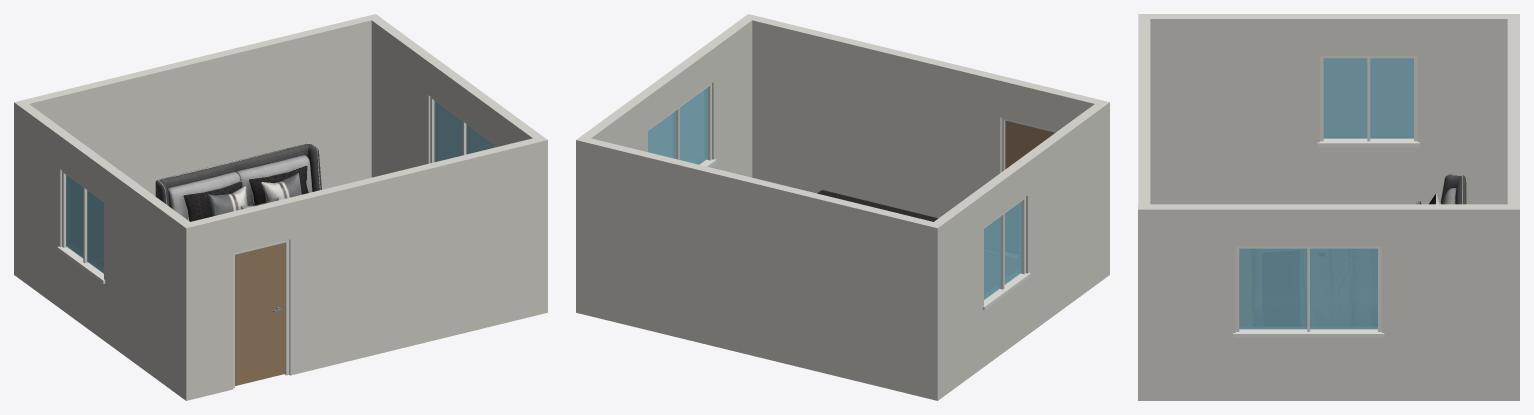
The model's file is diffuscene.glb.
3 views of the same model, side by side, from view 1: azimuth 30°, elevation 25°; view 2: azimuth 150°, elevation 25°; view 3: azimuth 270°, elevation 25° (orthographic). The views are drawn at different scales.
Parts seen in each view (by area): view 1: wall|scenesmith_022__R00|0, wall|scenesmith_022__R00|1, wall|scenesmith_022__R00|2, wall|scenesmith_022__R00|3, raw_model.001, wall|scenesmith_022__R00|0 Door 0 | wood leaf, wall|scenesmith_022__R00|2 Window 0 | glazing, wall|scenesmith_022__R00|3 Window 0 | glazing, wall|scenesmith_022__R00|2 Window 0 | jamb, wall|scenesmith_022__R00|0 Door 0 | jamb, wall|scenesmith_022__R00|3 Window 0 | jamb; view 2: wall|scenesmith_022__R00|1, wall|scenesmith_022__R00|0, wall|scenesmith_022__R00|2, wall|scenesmith_022__R00|3, wall|scenesmith_022__R00|3 Window 0 | glazing, wall|scenesmith_022__R00|2 Window 0 | glazing, wall|scenesmith_022__R00|0 Door 0 | wood leaf, wall|scenesmith_022__R00|2 Window 0 | jamb, wall|scenesmith_022__R00|3 Window 0 | jamb, raw_model; view 3: wall|scenesmith_022__R00|2, wall|scenesmith_022__R00|3, wall|scenesmith_022__R00|3 Window 0 | glazing, wall|scenesmith_022__R00|2 Window 0 | glazing, wall|scenesmith_022__R00|0, wall|scenesmith_022__R00|1, wall|scenesmith_022__R00|3 Window 0 | jamb, wall|scenesmith_022__R00|2 Window 0 | jamb, raw_model.001.
Boxes of the visible parts, left/top/right/bottom form: wall|scenesmith_022__R00|0: left=180, top=136, right=547, bottom=400; wall|scenesmith_022__R00|1: left=14, top=16, right=371, bottom=278; wall|scenesmith_022__R00|2: left=19, top=104, right=189, bottom=396; wall|scenesmith_022__R00|3: left=366, top=14, right=547, bottom=314; raw_model.001: left=155, top=143, right=321, bottom=221; wall|scenesmith_022__R00|0 Door 0 | wood leaf: left=235, top=242, right=285, bottom=385; wall|scenesmith_022__R00|2 Window 0 | glazing: left=66, top=175, right=103, bottom=273; wall|scenesmith_022__R00|3 Window 0 | glazing: left=434, top=101, right=494, bottom=162; wall|scenesmith_022__R00|2 Window 0 | jamb: left=57, top=171, right=105, bottom=283; wall|scenesmith_022__R00|0 Door 0 | jamb: left=233, top=240, right=289, bottom=388; wall|scenesmith_022__R00|3 Window 0 | jamb: left=430, top=96, right=494, bottom=163; wall|scenesmith_022__R00|1: left=576, top=138, right=943, bottom=400; wall|scenesmith_022__R00|0: left=743, top=14, right=1109, bottom=278; wall|scenesmith_022__R00|2: left=928, top=104, right=1104, bottom=396; wall|scenesmith_022__R00|3: left=576, top=18, right=752, bottom=177; wall|scenesmith_022__R00|3 Window 0 | glazing: left=648, top=87, right=707, bottom=164; wall|scenesmith_022__R00|2 Window 0 | glazing: left=984, top=201, right=1021, bottom=299; wall|scenesmith_022__R00|0 Door 0 | wood leaf: left=1005, top=120, right=1055, bottom=169; wall|scenesmith_022__R00|2 Window 0 | jamb: left=982, top=197, right=1030, bottom=310; wall|scenesmith_022__R00|3 Window 0 | jamb: left=648, top=83, right=716, bottom=167; raw_model: left=817, top=190, right=937, bottom=221; wall|scenesmith_022__R00|2: left=1150, top=14, right=1519, bottom=204; wall|scenesmith_022__R00|3: left=1138, top=204, right=1519, bottom=400; wall|scenesmith_022__R00|3 Window 0 | glazing: left=1239, top=248, right=1377, bottom=329; wall|scenesmith_022__R00|2 Window 0 | glazing: left=1323, top=58, right=1413, bottom=138; wall|scenesmith_022__R00|0: left=1138, top=14, right=1150, bottom=400; wall|scenesmith_022__R00|1: left=1507, top=14, right=1519, bottom=400; wall|scenesmith_022__R00|3 Window 0 | jamb: left=1233, top=246, right=1384, bottom=337; wall|scenesmith_022__R00|2 Window 0 | jamb: left=1317, top=56, right=1419, bottom=147; raw_model.001: left=1415, top=174, right=1466, bottom=204.
Bounding box in the file's own units: 5.76 × 2.61 × 4.7.
Materials: 10 (4 with a texture image).
